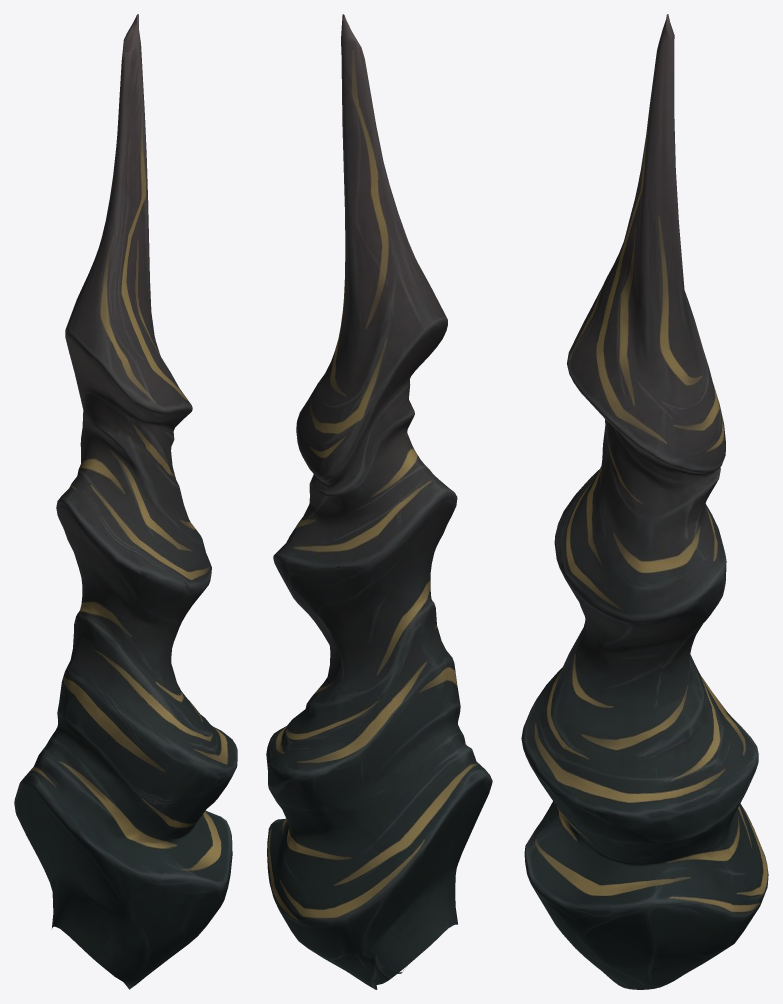
The model's file is spire_01_b.glb.
3 renders of one model, left to right at view 1: azimuth 30°, elevation 25°; view 2: azimuth 150°, elevation 25°; view 3: azimuth 270°, elevation 25°, orthographic. The views are drawn at different scales.
Parts seen in each view (by area): view 1: SM_KC_SPIRES_01_B; view 2: SM_KC_SPIRES_01_B; view 3: SM_KC_SPIRES_01_B.
Boxes of the visible parts, x1=… form: SM_KC_SPIRES_01_B: x1=14, y1=14, x2=237, y2=989; SM_KC_SPIRES_01_B: x1=266, y1=14, x2=492, y2=989; SM_KC_SPIRES_01_B: x1=521, y1=14, x2=768, y2=989.
Bounding box in the file's own units: 3.84 × 17.48 × 3.97.
1 material, 1 textured.
